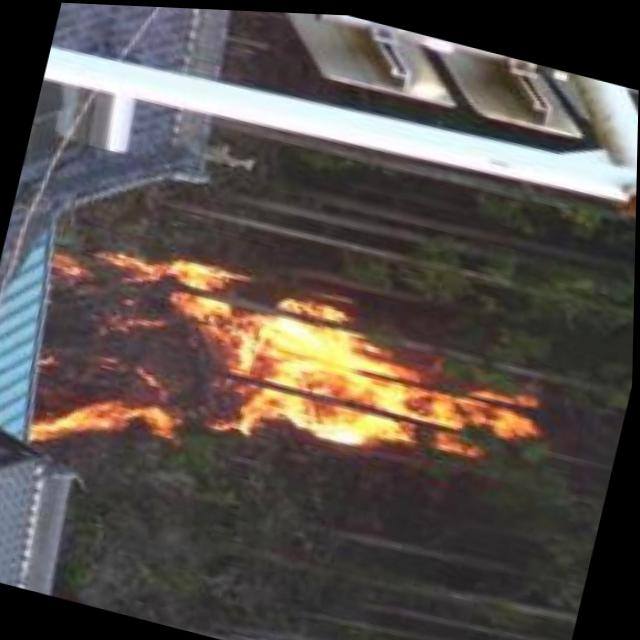Fire: (25, 225, 553, 540)
